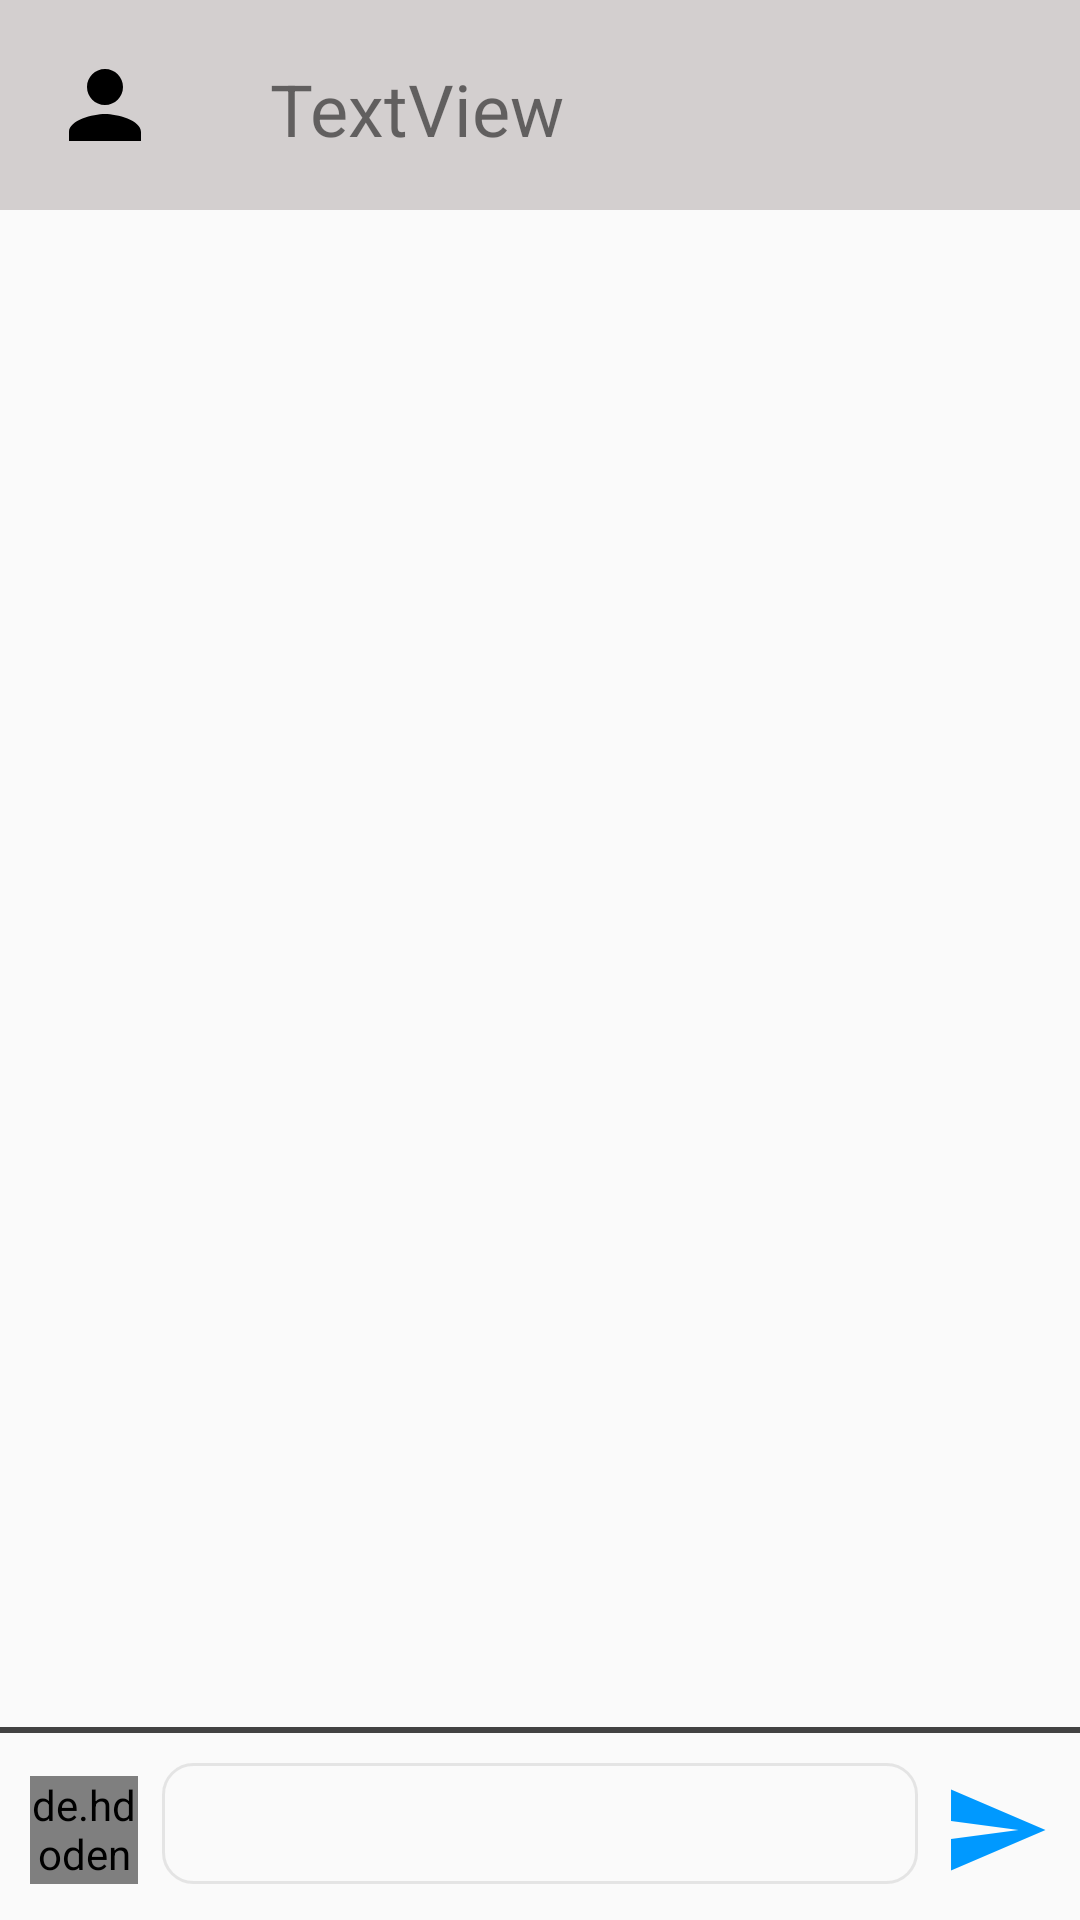

Where to tap for icons on this 1080px×1920px app screen, as (x=x, y=y):
person: (x=105, y=105)
send: (x=998, y=1830)
